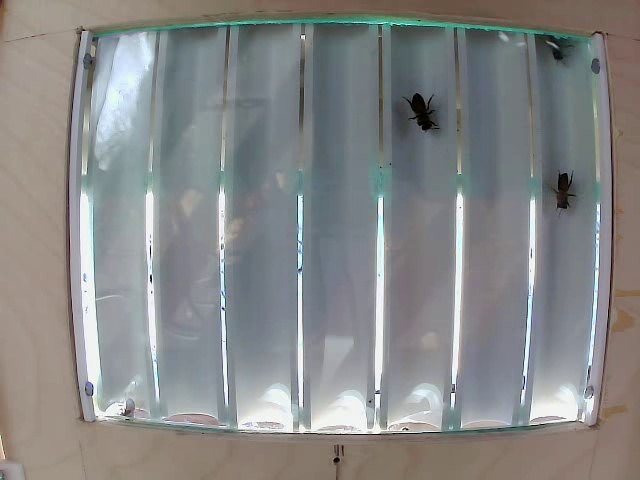bee: (408, 88, 444, 141), (550, 162, 575, 220), (543, 30, 567, 65)
